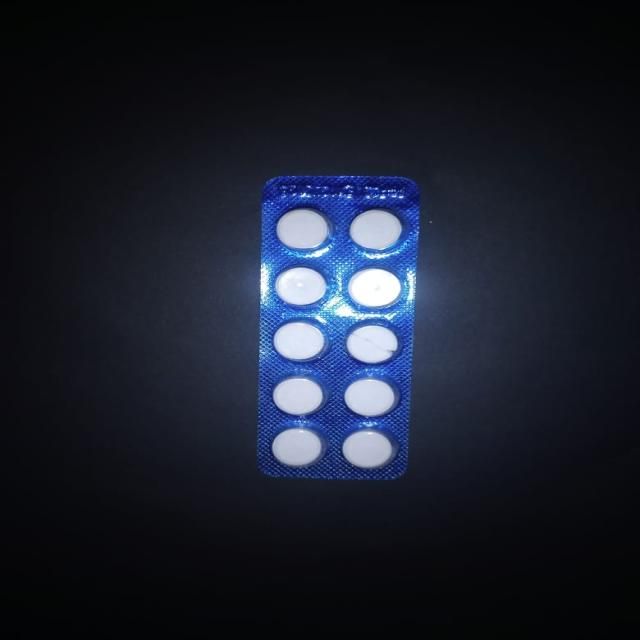defect: (344, 321, 404, 367)
